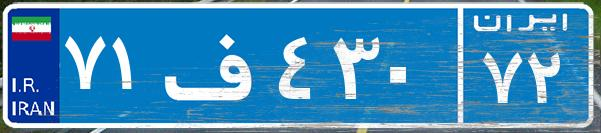0: (385, 28, 445, 110)
1: (110, 28, 158, 105)
2: (525, 38, 570, 115)
3: (330, 28, 385, 110)
4: (273, 28, 330, 110)
7: (57, 26, 110, 107), (475, 38, 525, 113)
ف: (158, 15, 273, 115)
